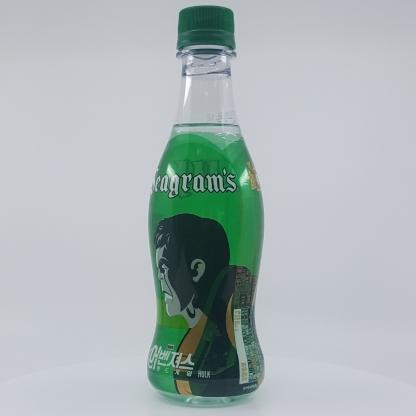-------350ML: (147, 5, 265, 408)
